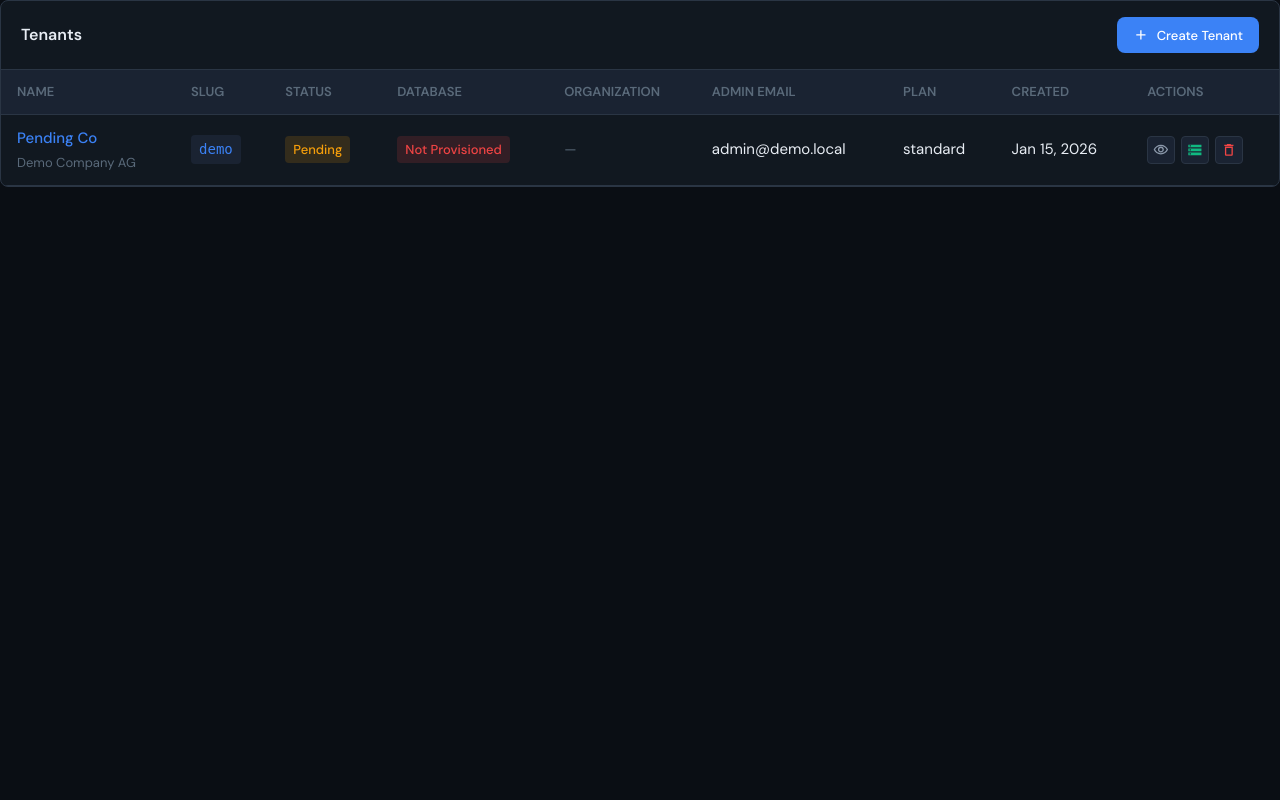
Test: TenantList › provisions a database and shows the generated admin credentials
This screenshot has width=1280, height=800.
Click the button titled "Provision Database". click: point(1195, 150)
box: 1181,136 -> 1209,164
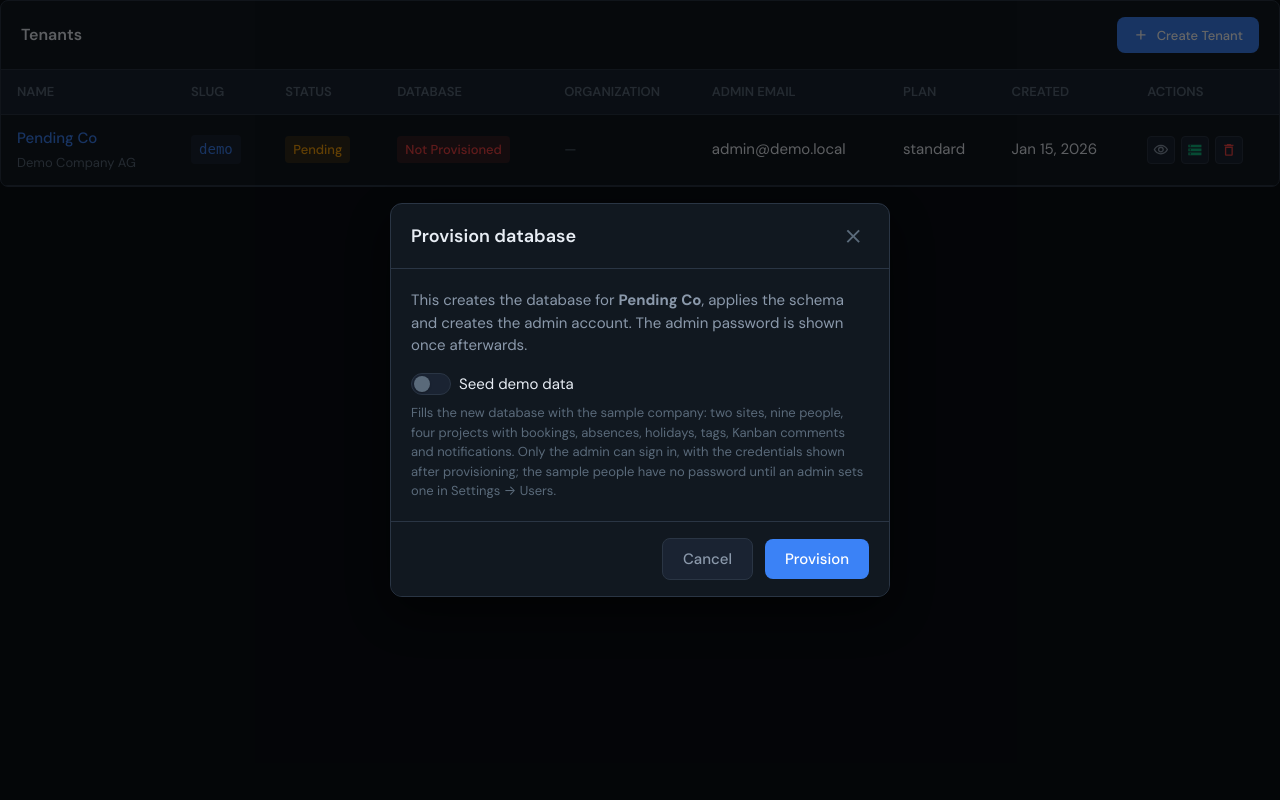
Now the dialog "Provision database" shows "Pending Co", box 618,290 -> 701,310
Click the button "Provision". click: point(817, 559)
box: 765,539 -> 869,579
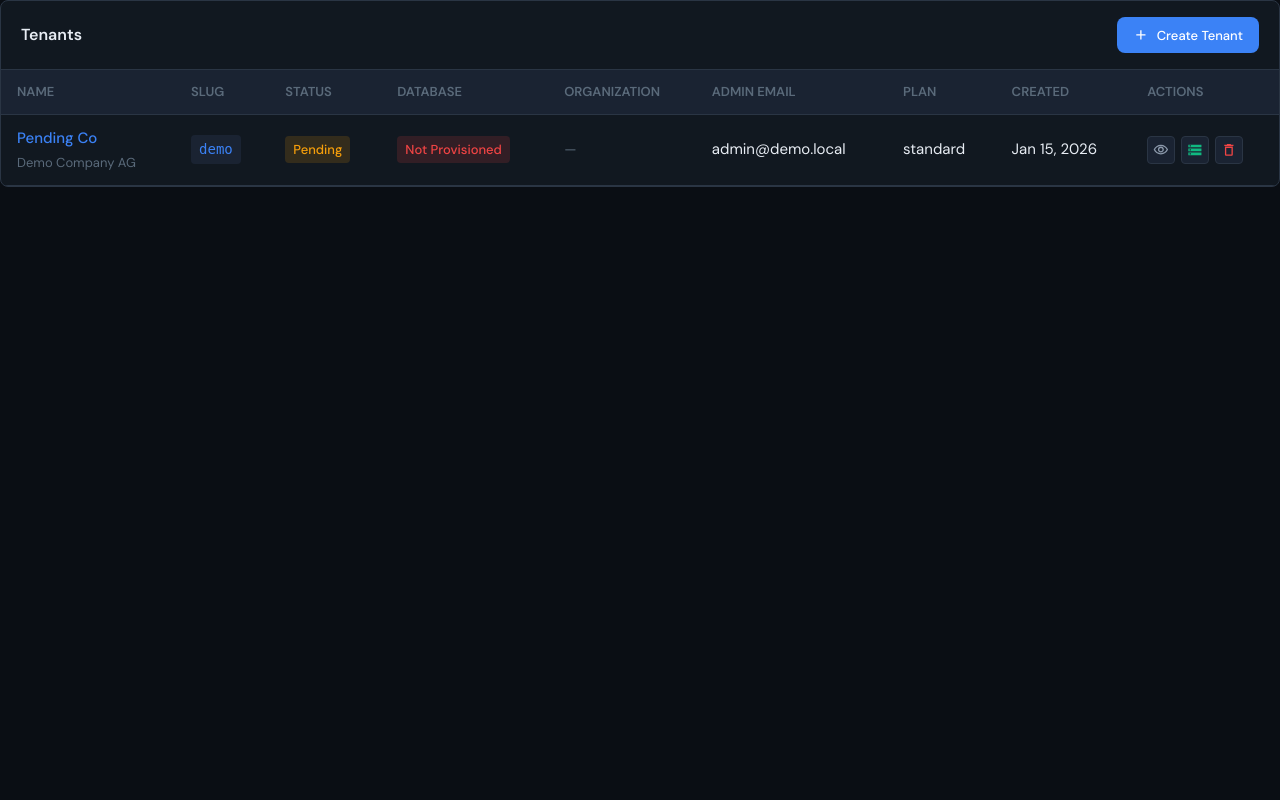
Now the heading "Provision database" is gone
